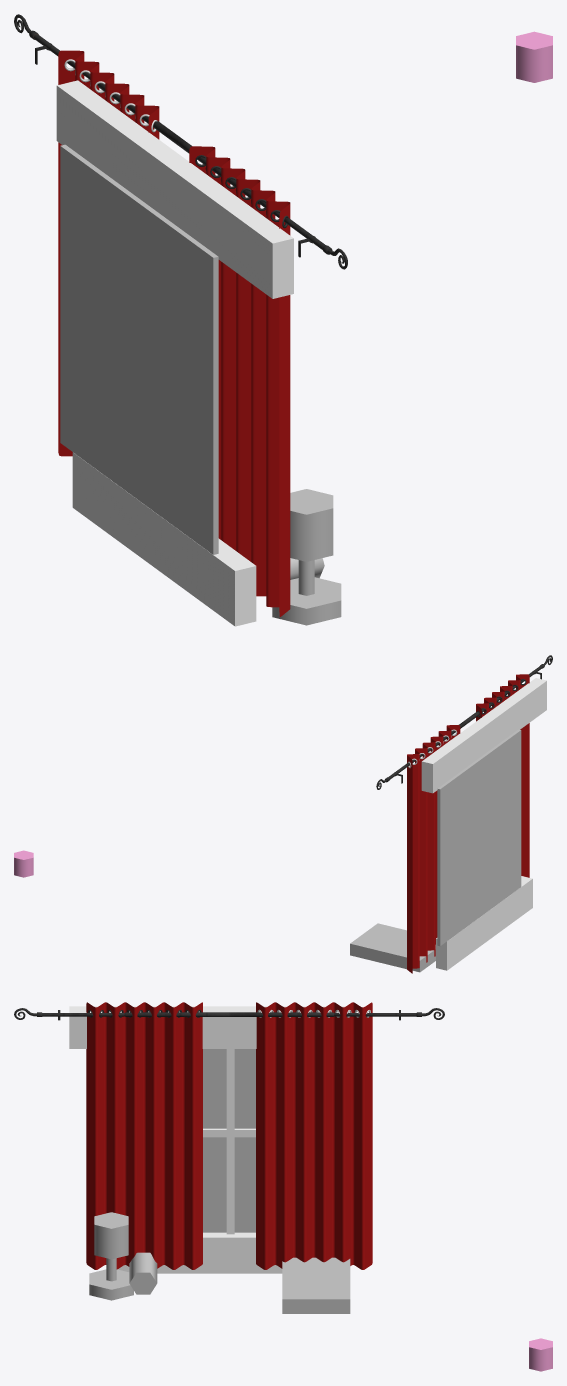
Rendered from Modelling.fbx.
3 renders of one model, top to bottom at view 1: azimuth 30°, elevation 25°; view 2: azimuth 150°, elevation 25°; view 3: azimuth 270°, elevation 25°, orthographic. The views are drawn at different scales.
Parts seen in each view (by area): view 1: Window_glass, Curtains_CurtainFolds_right_L___Curtains_LINK_blend_Dupli_, wall_1, wall, Lamp, Curtains_CurtainFolds_left_L___Curtains_LINK_blend_Dupli_2, Mug_Cup, Curtains_RodThick_L___Curtains_LINK_blend_Dupli_8; view 2: Window_glass, Curtains_CurtainFolds_left_L___Curtains_LINK_blend_Dupli_2, wall_1, wall, Cube, Curtains_CurtainFolds_right_L___Curtains_LINK_blend_Dupli_, Mug_Cup; view 3: Curtains_CurtainFolds_left_L___Curtains_LINK_blend_Dupli_2, Curtains_CurtainFolds_right_L___Curtains_LINK_blend_Dupli_, Window_glass, Cube, wall_1, Lamp, wall, Window_thing, Decoration, Curtains_RodThick_L___Curtains_LINK_blend_Dupli_8, Mug_Cup, Curtains_RodThinner_L___Curtains_LINK_blend_Dupli_6.
Part boxes in pixels (x1,y1,x2,y2): Window_glass: (60,144,218,554); Curtains_CurtainFolds_right_L___Curtains_LINK_blend_Dupli_: (189,146,290,616); wall_1: (56,80,293,298); wall: (72,452,256,626); Lamp: (272,489,341,625); Curtains_CurtainFolds_left_L___Curtains_LINK_blend_Dupli_2: (58,50,159,456); Mug_Cup: (516,31,552,82); Curtains_RodThick_L___Curtains_LINK_blend_Dupli_8: (97,83,260,204); Window_glass: (437,729,521,946); Curtains_CurtainFolds_left_L___Curtains_LINK_blend_Dupli_2: (407,725,460,973); wall_1: (421,678,546,793); wall: (436,876,532,970); Cube: (350,923,435,972); Curtains_CurtainFolds_right_L___Curtains_LINK_blend_Dupli_: (476,674,529,877); Mug_Cup: (14,850,33,877); Curtains_CurtainFolds_left_L___Curtains_LINK_blend_Dupli_2: (256,1002,372,1269); Curtains_CurtainFolds_right_L___Curtains_LINK_blend_Dupli_: (86,1002,202,1269); Window_glass: (203,1049,255,1232); Cube: (282,1257,350,1313); wall_1: (69,1006,348,1048); Lamp: (89,1212,133,1300); wall: (118,1232,282,1273); Window_thing: (203,1049,255,1234); Decoration: (129,1252,157,1294); Curtains_RodThick_L___Curtains_LINK_blend_Dupli_8: (124,1012,334,1016); Mug_Cup: (529,1338,552,1371); Curtains_RodThinner_L___Curtains_LINK_blend_Dupli_6: (42,1013,416,1016).
Bounding box in the file's own units: 12248 × 7602 × 13588.
